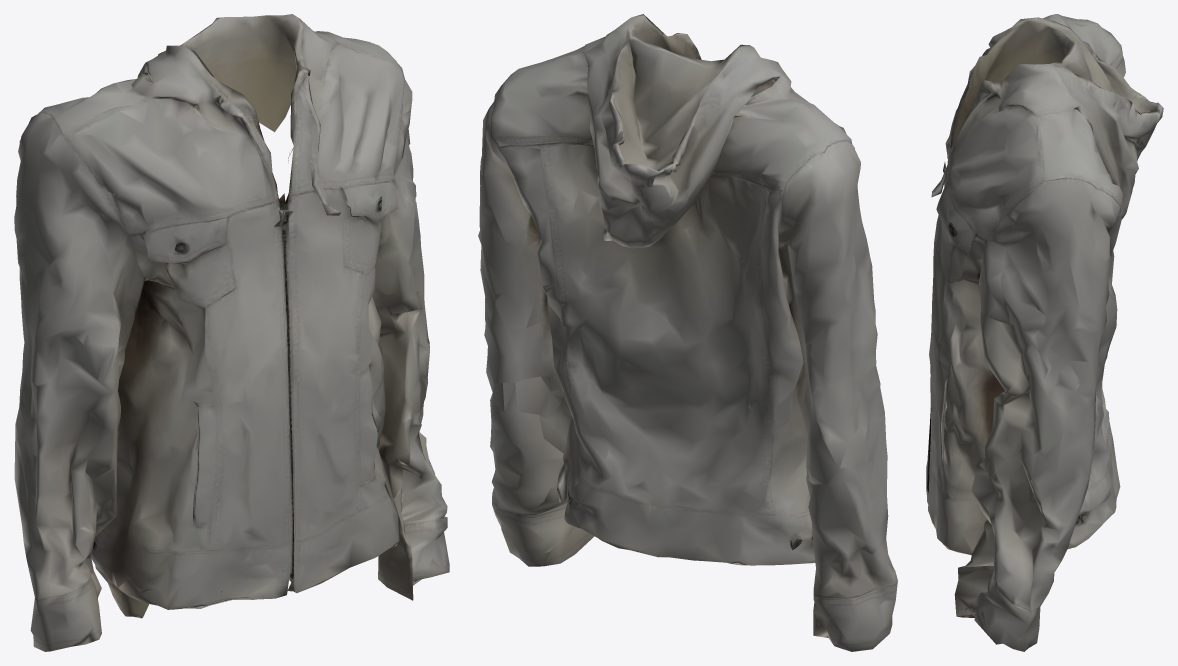
The picture shows the model from 3 angles, left to right: view 1: azimuth 30°, elevation 25°; view 2: azimuth 150°, elevation 25°; view 3: azimuth 270°, elevation 25°; orthographic projection. The views are drawn at different scales.
Visible parts, largest first — view 1: tripo_node_4ff4c618-9553-46bd-989e-f265c46b2b77; view 2: tripo_node_4ff4c618-9553-46bd-989e-f265c46b2b77; view 3: tripo_node_4ff4c618-9553-46bd-989e-f265c46b2b77.
Boxes of the visible parts, bbox=[...] form: tripo_node_4ff4c618-9553-46bd-989e-f265c46b2b77: bbox=[14, 14, 449, 651]; tripo_node_4ff4c618-9553-46bd-989e-f265c46b2b77: bbox=[478, 14, 897, 651]; tripo_node_4ff4c618-9553-46bd-989e-f265c46b2b77: bbox=[926, 14, 1163, 651].
Bounding box in the file's own units: 0.5688 × 0.7755 × 0.3133.
1 material, 1 textured.
